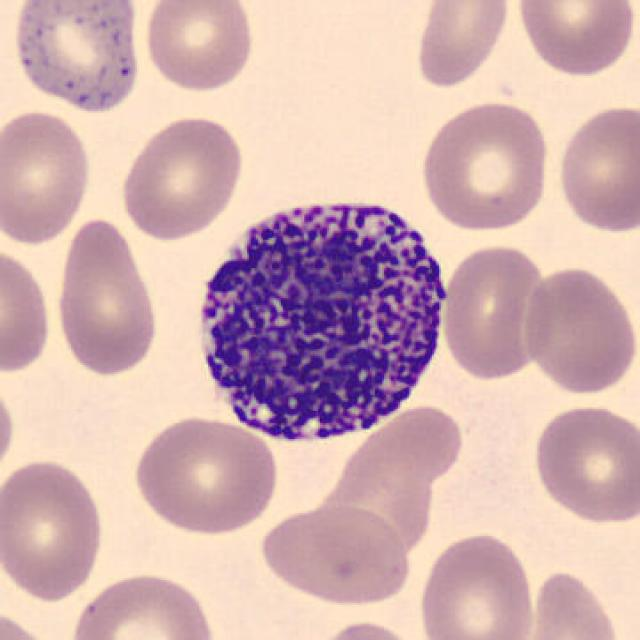Basophil: (183, 180, 459, 455)
RBC: (304, 400, 468, 559), (128, 412, 281, 538), (416, 97, 555, 234), (52, 215, 164, 379), (116, 111, 247, 242), (256, 501, 414, 608), (7, 0, 149, 118), (439, 240, 553, 382), (519, 262, 638, 398), (0, 455, 107, 605), (414, 529, 539, 640), (530, 400, 638, 527), (0, 105, 94, 248), (553, 100, 638, 237), (65, 567, 218, 640), (140, 0, 257, 93), (512, 0, 638, 79), (411, 0, 514, 92), (519, 566, 624, 640), (0, 242, 55, 379), (306, 617, 425, 640), (0, 372, 20, 487), (0, 603, 59, 640)
